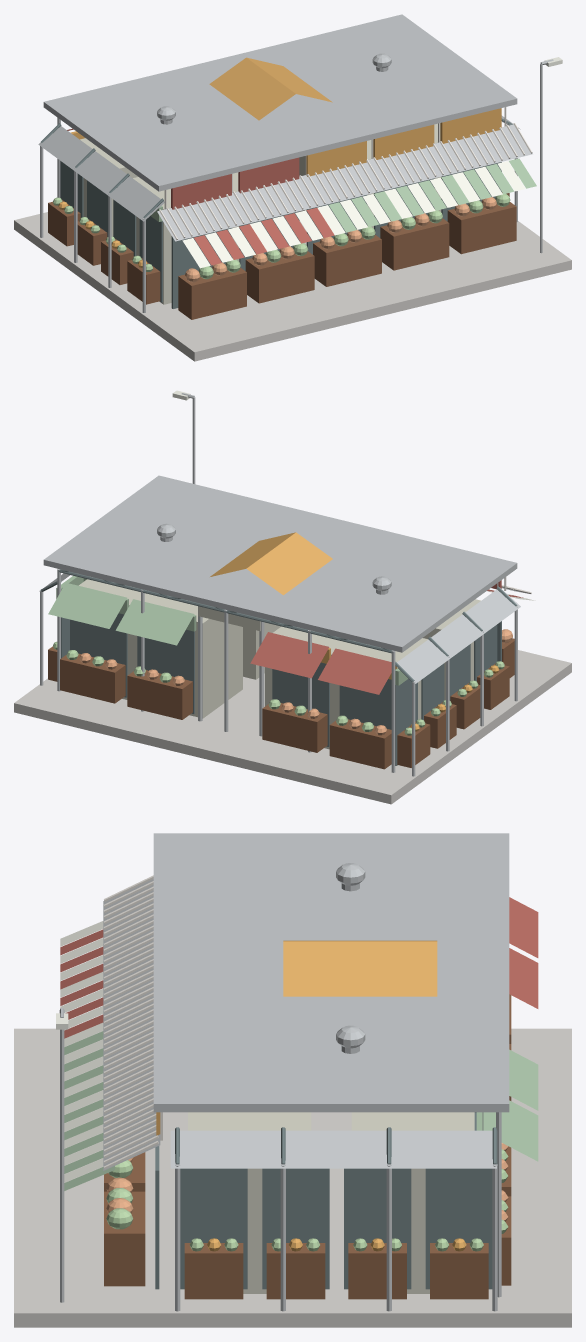
File: dot-P05.glb
The picture shows the model from 3 angles, top to bottom: view 1: azimuth 30°, elevation 25°; view 2: azimuth 150°, elevation 25°; view 3: azimuth 270°, elevation 25°; orthographic projection. The views are drawn at different scales.
Parts seen in each view (by area): view 1: pave; view 2: pave; view 3: pave.
Boxes of the visible parts, x1,y1,x2,y2 form: pave: (14,14,571,361); pave: (14,390,571,804); pave: (14,833,571,1327).
Bounding box in the file's own units: 6.11 × 3.05 × 5.01.
Materials: 1 (1 with a texture image).
